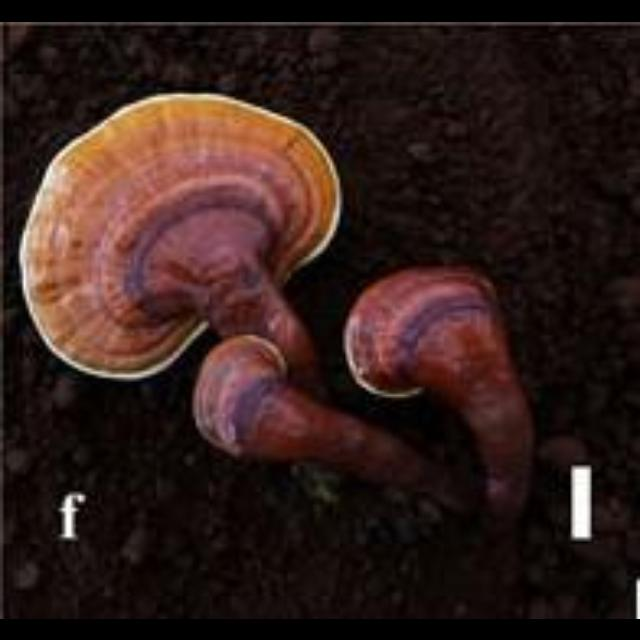ganoderma: (18, 91, 347, 381), (344, 264, 510, 401), (191, 331, 292, 461)
